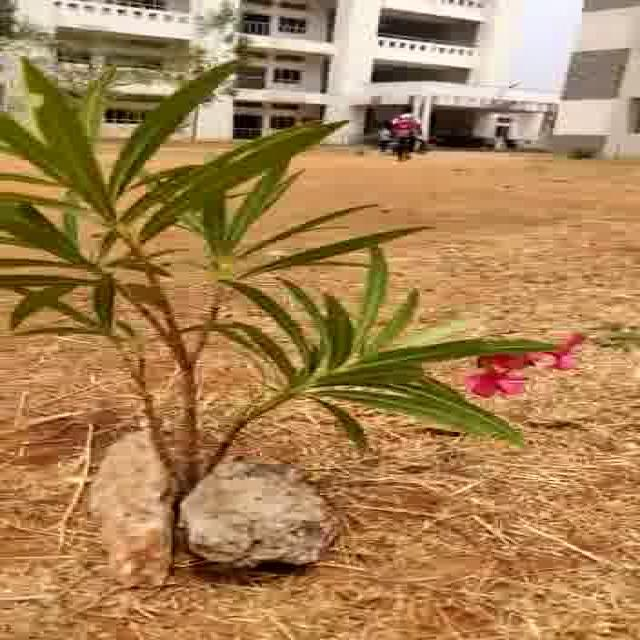OLEANDER: (0, 38, 564, 460)
